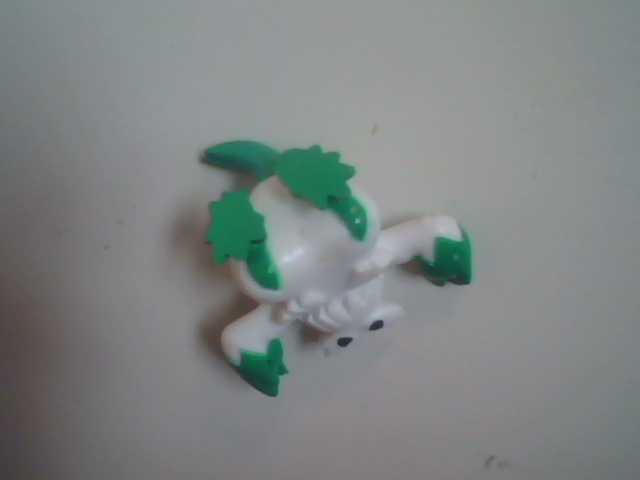abomasnow: (173, 98, 542, 436)
